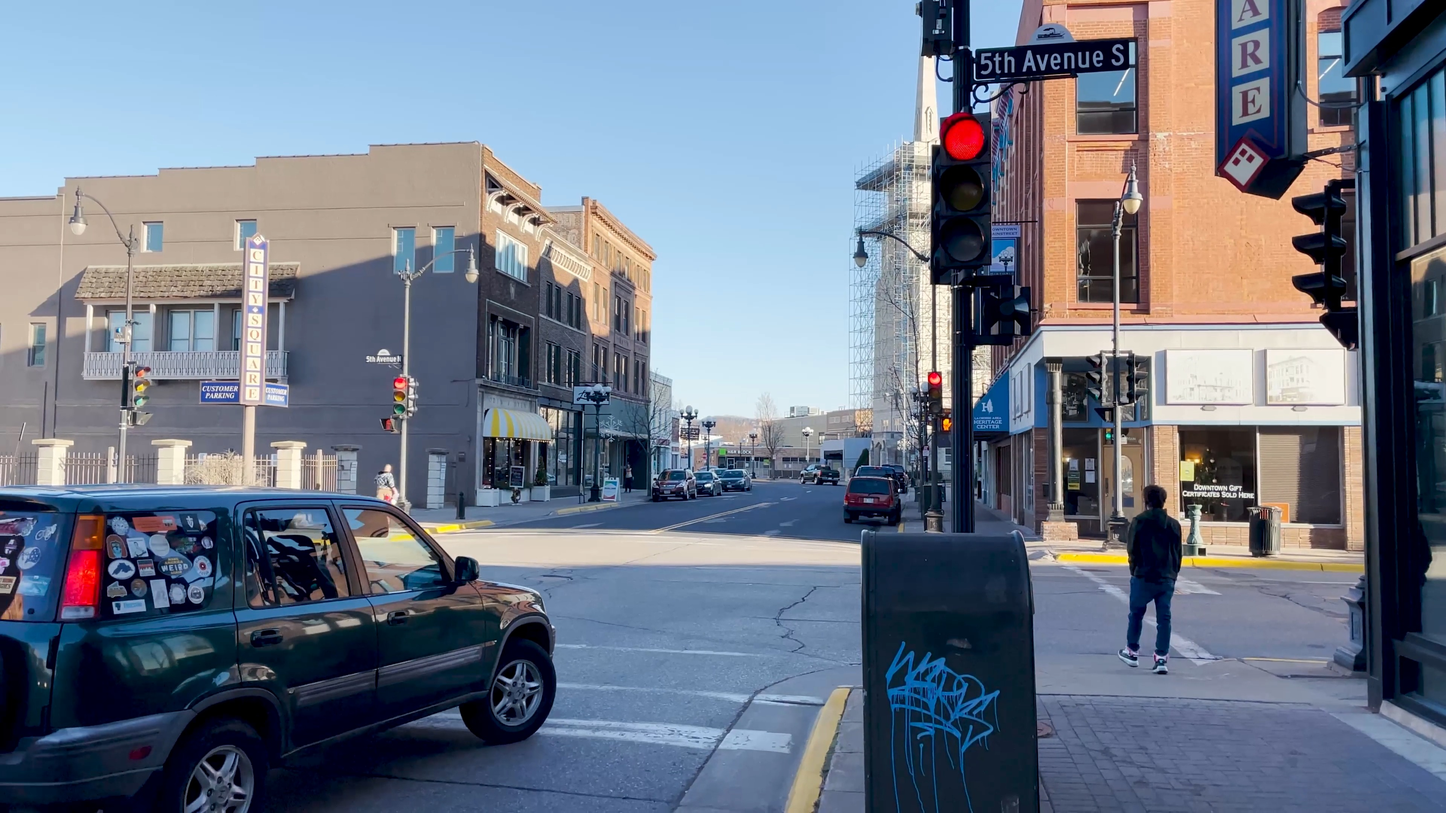red traffic light: (927, 100, 1005, 287)
